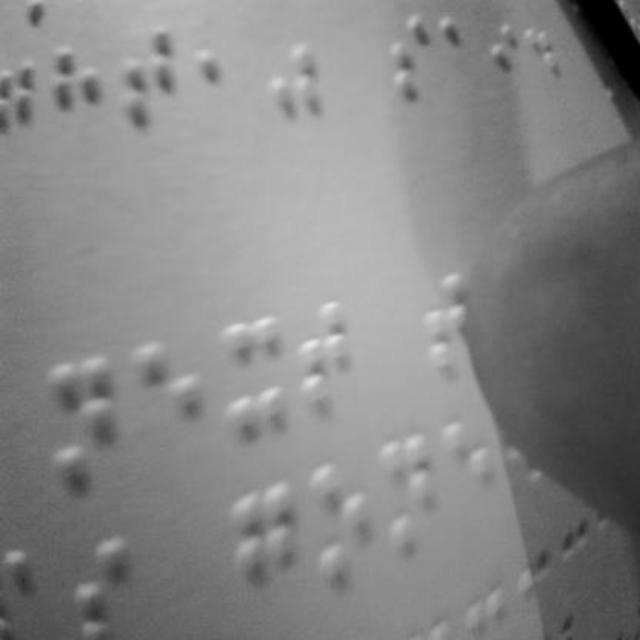braiile: (44, 352, 122, 496), (135, 334, 205, 468), (222, 308, 294, 437), (233, 480, 297, 618), (308, 462, 378, 588), (116, 16, 180, 146), (377, 426, 438, 558), (192, 9, 256, 127), (300, 291, 358, 417), (48, 39, 108, 160), (422, 263, 482, 381), (0, 57, 46, 177), (383, 6, 432, 106)
